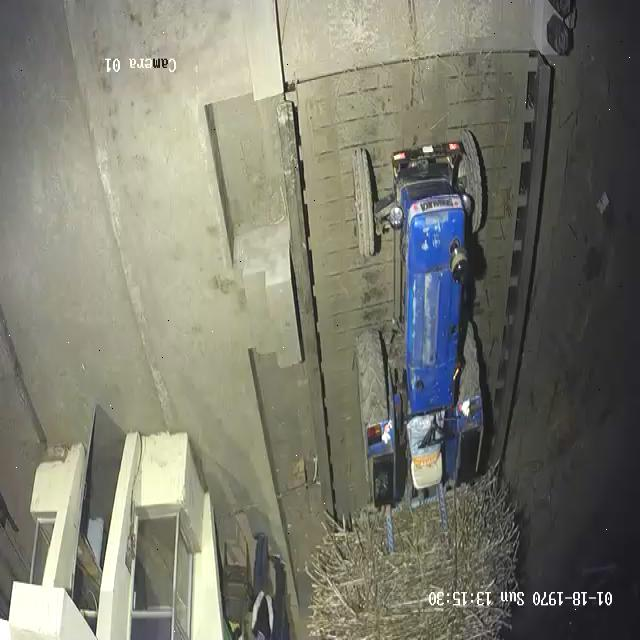Tratores - v5 YOLO V8L 2024-11-13: (345, 111, 502, 514)
